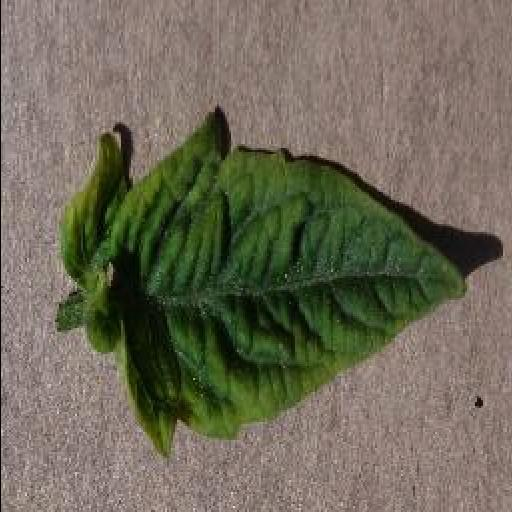disease_tomato: (53, 116, 467, 454)
